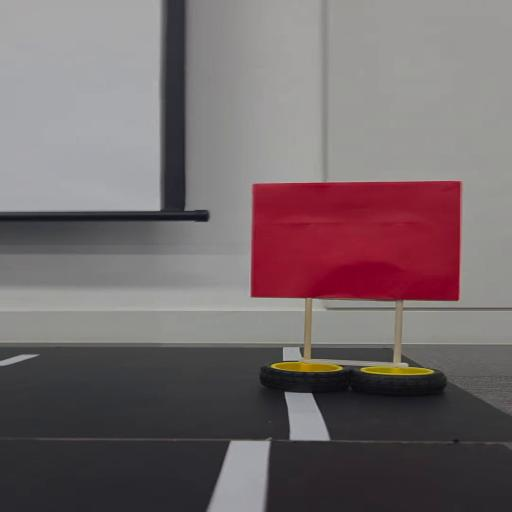Sign_A: (230, 175, 474, 402)
